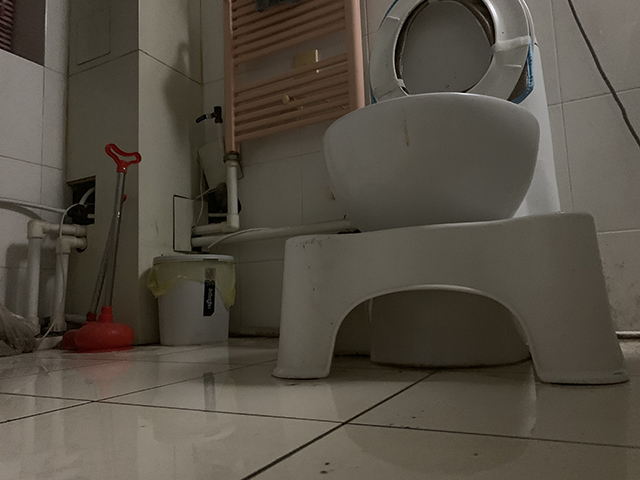closestool: (320, 1, 563, 373)
stool: (272, 211, 631, 387)
trashcan: (147, 254, 237, 346)
